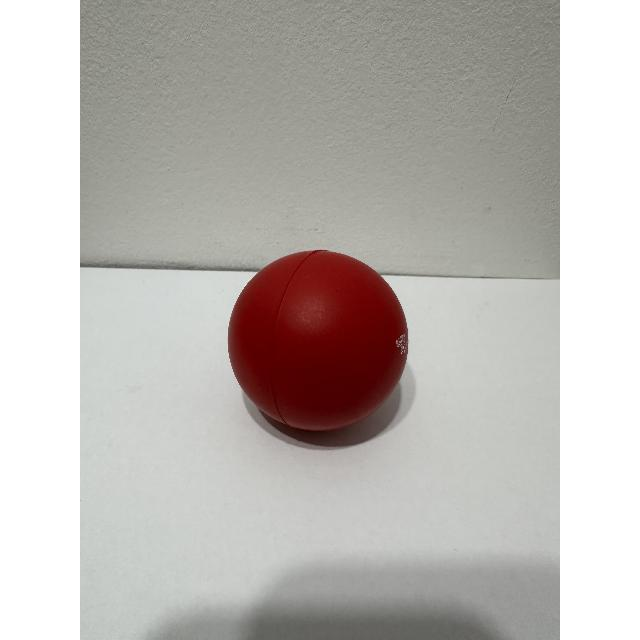red_ball: (217, 237, 448, 478)
